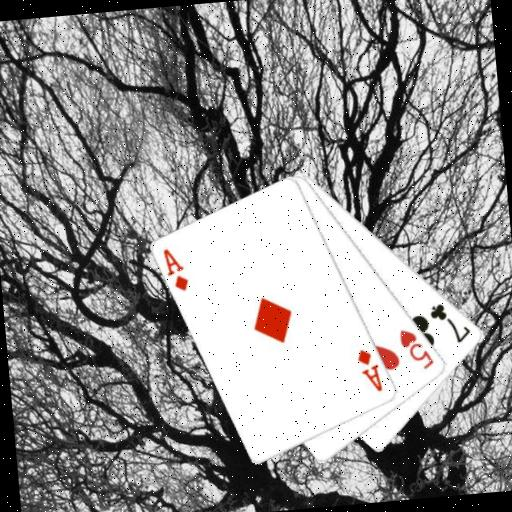5H: (396, 325, 437, 374)
7C: (426, 298, 474, 348)
AD: (354, 345, 385, 396), (161, 244, 192, 294)
